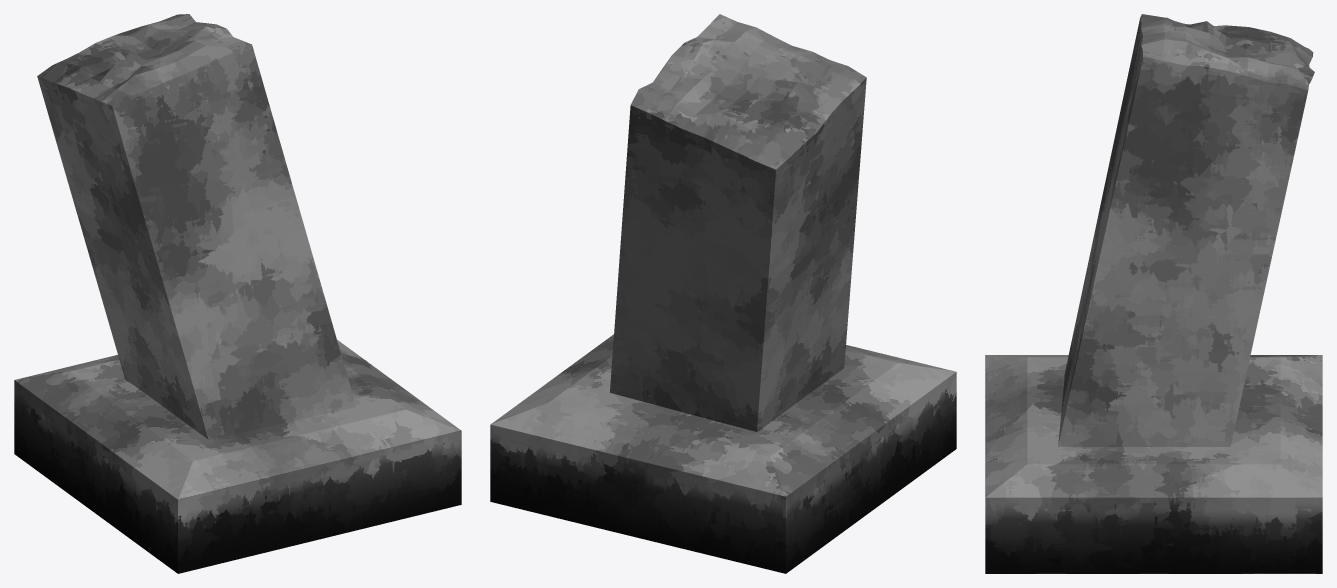
The model's file is PhilarRuin1.glb.
3 views of the same model, side by side, from view 1: azimuth 30°, elevation 25°; view 2: azimuth 150°, elevation 25°; view 3: azimuth 270°, elevation 25° (orthographic). The views are drawn at different scales.
Parts seen in each view (by area): view 1: PhilarRuin1; view 2: PhilarRuin1; view 3: PhilarRuin1.
Part boxes in pixels (x1,y1,x2,y2): PhilarRuin1: (14, 14, 461, 573); PhilarRuin1: (490, 14, 956, 573); PhilarRuin1: (985, 14, 1322, 573).
Bounding box in the file's own units: 4 × 5.89 × 4.
1 material, 1 textured.
